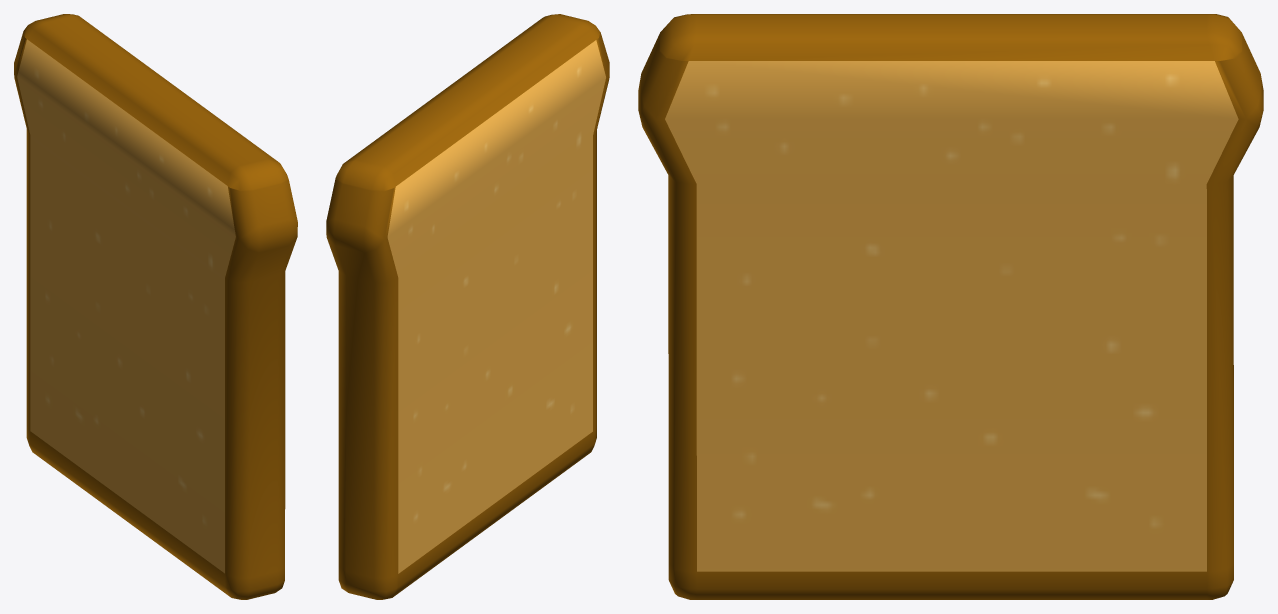
The model's file is Bread-Test-Scale.fbx.
The picture shows the model from 3 angles, left to right: view 1: azimuth 30°, elevation 25°; view 2: azimuth 150°, elevation 25°; view 3: azimuth 270°, elevation 25°; orthographic projection. The views are drawn at different scales.
Parts seen in each view (by area): view 1: Bread; view 2: Bread; view 3: Bread.
Boxes of the visible parts, box(x1,y1,x2,y2) form: Bread: box(14, 14, 297, 599); Bread: box(326, 14, 609, 599); Bread: box(638, 14, 1263, 599).
Bounding box in the file's own units: 31.24 × 221 × 221.
